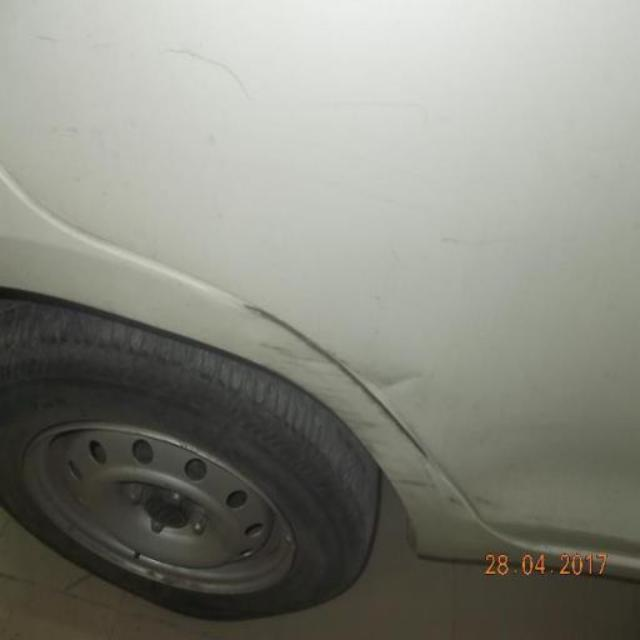dent: (364, 365, 423, 391)
dislocated part: (241, 299, 451, 502)
scratch: (89, 41, 255, 110)
